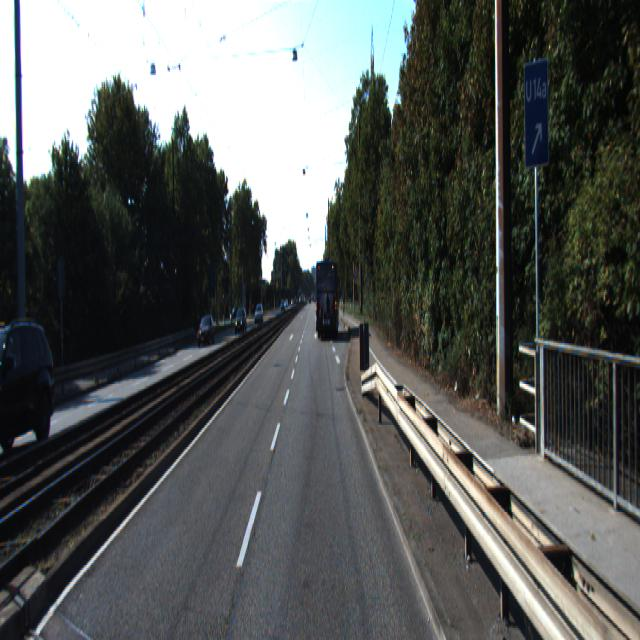Car: (0, 313, 61, 470), (315, 258, 339, 338), (197, 315, 217, 347)
